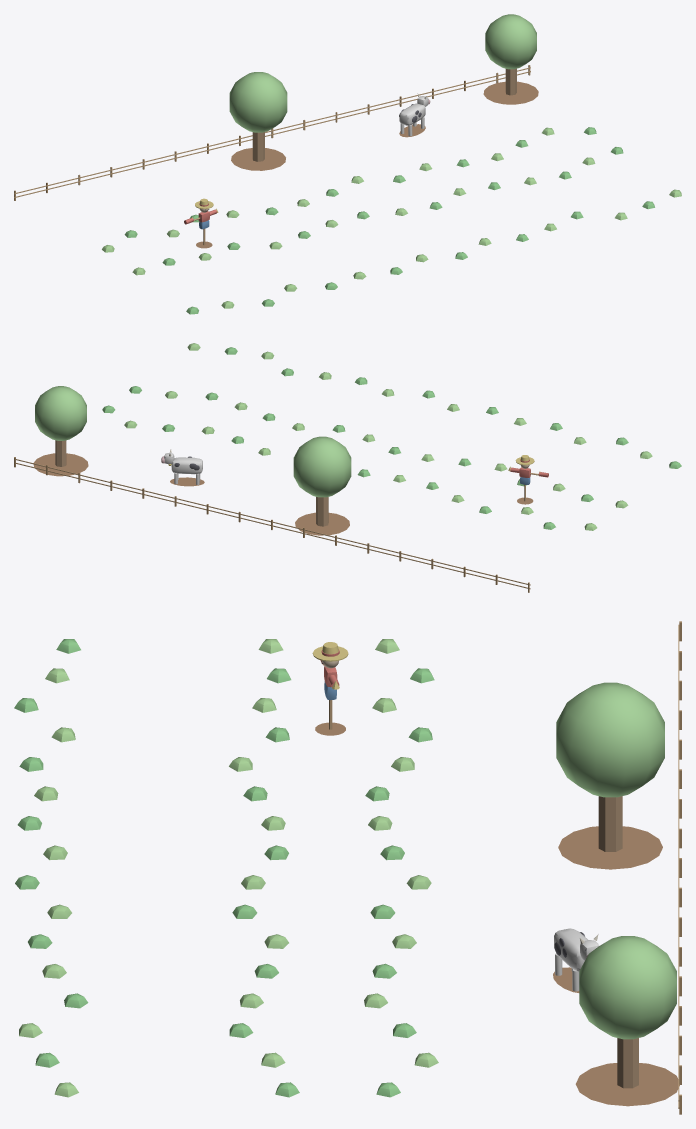
File: garden-near.glb
The picture shows the model from 3 angles, top to bottom: view 1: azimuth 30°, elevation 25°; view 2: azimuth 150°, elevation 25°; view 3: azimuth 270°, elevation 25°; orthographic projection. The views are drawn at different scales.
Parts seen in each view (by area): view 1: garden-near; view 2: garden-near; view 3: garden-near.
Boxes of the visible parts, x1,y1,x2,y2 form: garden-near: [14, 14, 681, 314]; garden-near: [14, 343, 681, 592]; garden-near: [14, 621, 681, 1114].
Bounding box in the file's own units: 64.28 × 10.1 × 38.17.
